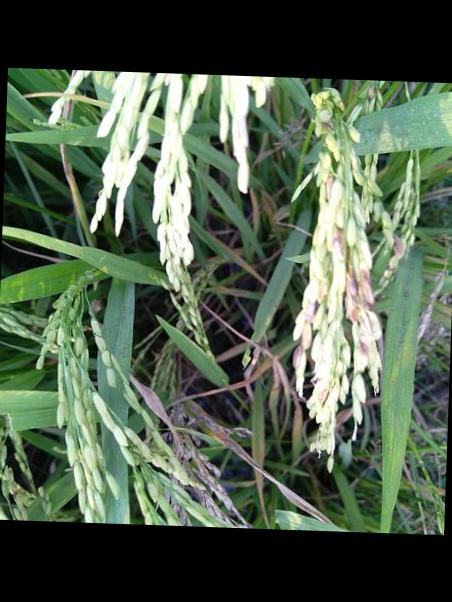Panicle Blight: (359, 261, 375, 304), (290, 345, 304, 374), (301, 300, 319, 322), (324, 172, 335, 205), (346, 266, 358, 296), (391, 233, 406, 256), (330, 228, 346, 248), (360, 298, 375, 312), (357, 340, 369, 354), (348, 311, 359, 321)
